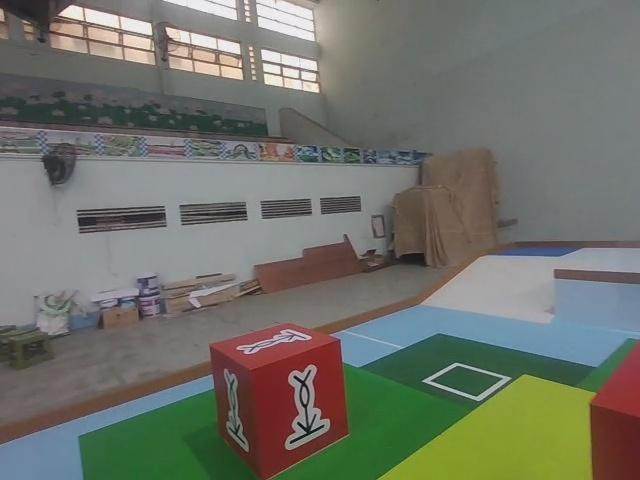R2 Real: (203, 321, 354, 479)
